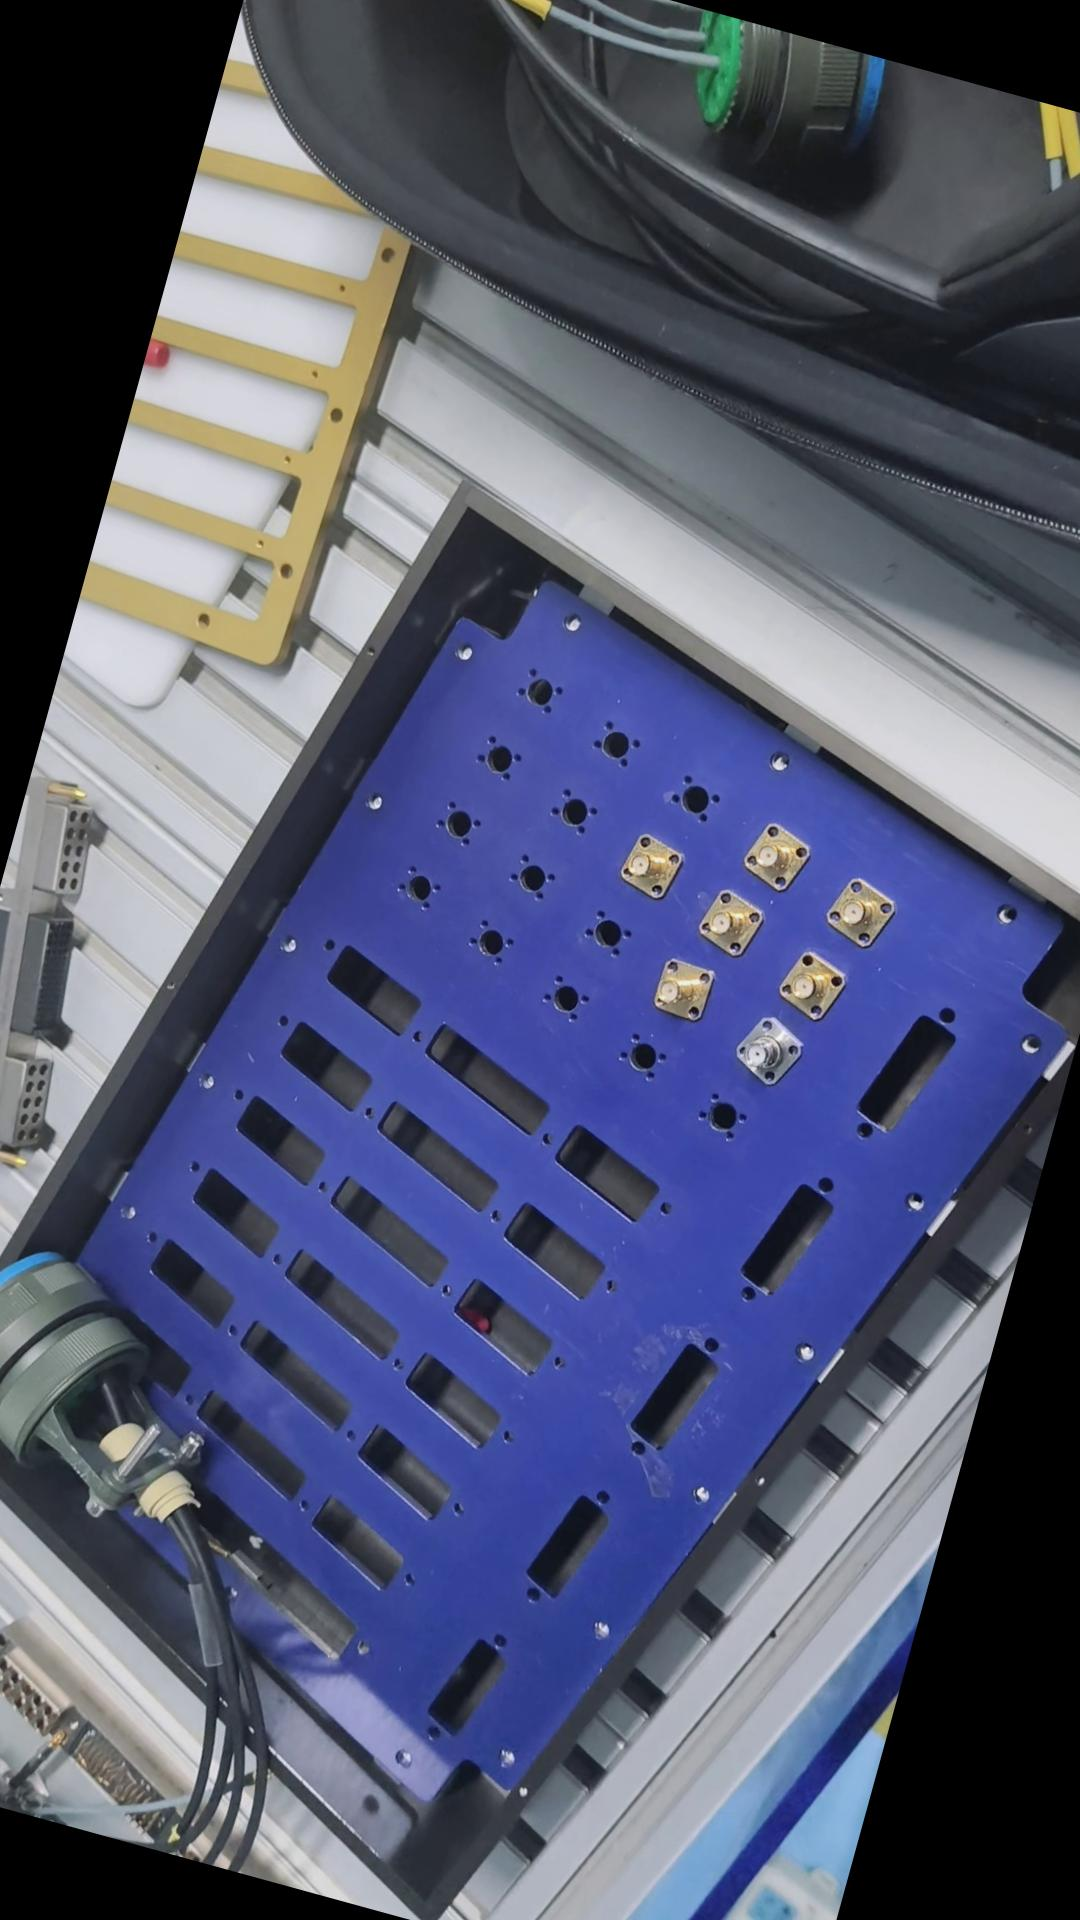SMA: (731, 812, 815, 895), (820, 865, 899, 948), (773, 942, 851, 1021), (640, 953, 720, 1029), (687, 886, 769, 957), (607, 829, 682, 905), (731, 1011, 806, 1083)
